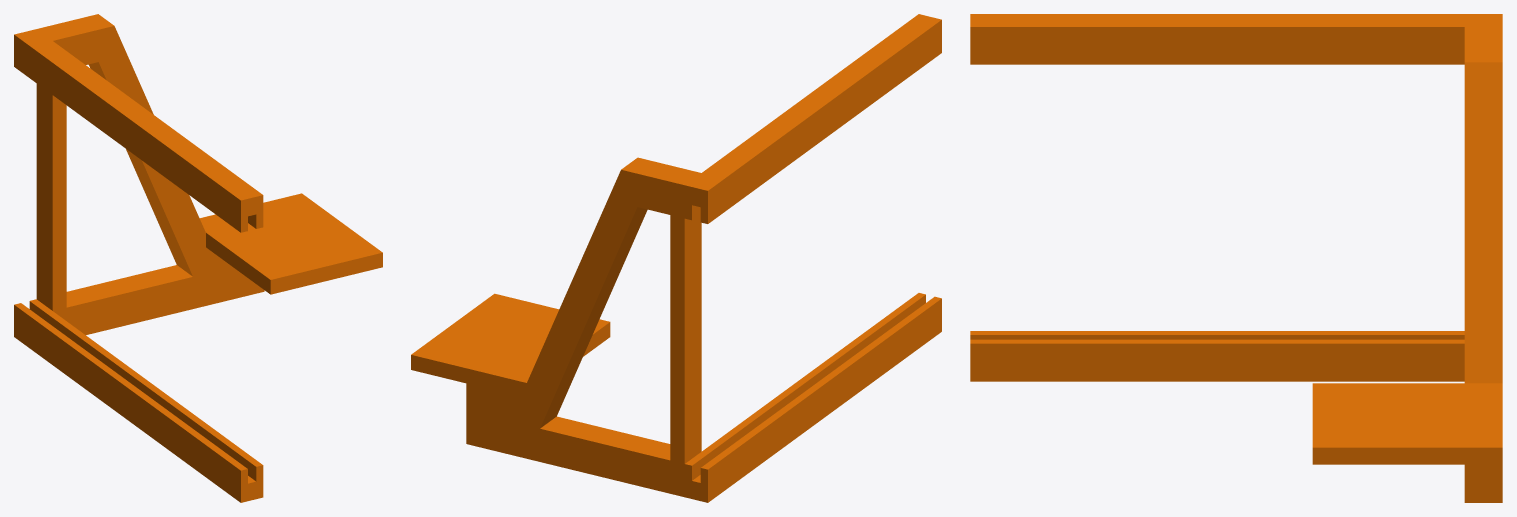
Rendered from KobraNeoCameraPlatform.glb.
The picture shows the model from 3 angles, left to right: view 1: azimuth 30°, elevation 25°; view 2: azimuth 150°, elevation 25°; view 3: azimuth 270°, elevation 25°; orthographic projection. The views are drawn at different scales.
Parts seen in each view (by area): view 1: KobraNeoCameraPlatform_LowRes.stl; view 2: KobraNeoCameraPlatform_LowRes.stl; view 3: KobraNeoCameraPlatform_LowRes.stl.
Boxes of the visible parts, x1,y1,x2,y2 form: KobraNeoCameraPlatform_LowRes.stl: (14, 14, 382, 502); KobraNeoCameraPlatform_LowRes.stl: (411, 14, 941, 502); KobraNeoCameraPlatform_LowRes.stl: (970, 14, 1502, 502).
Size of the model in its own units: 103 by 103 by 140.
